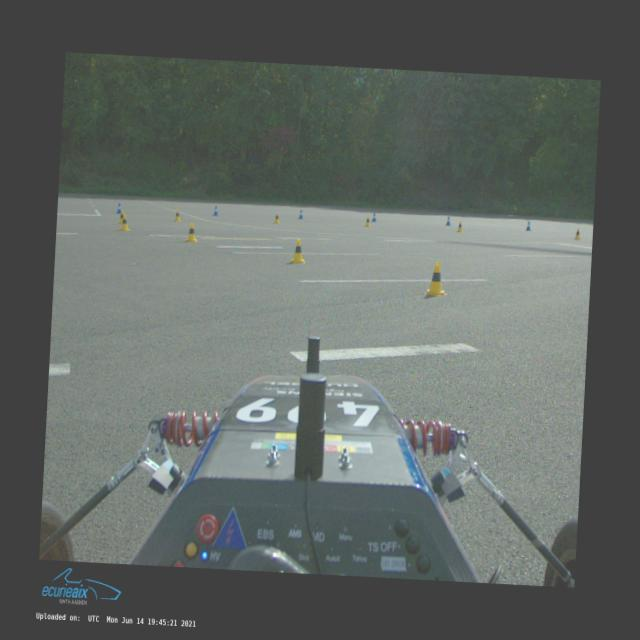blue_cone: (212, 206, 219, 217), (115, 203, 122, 214), (525, 221, 532, 231), (446, 216, 452, 226), (298, 210, 304, 220), (372, 212, 376, 222)
yellow_cone: (424, 262, 449, 296), (290, 238, 308, 264), (185, 222, 199, 242), (120, 214, 132, 232), (456, 220, 464, 232), (274, 212, 282, 224), (574, 228, 582, 240), (174, 210, 182, 222), (118, 210, 124, 224), (364, 217, 372, 227)
